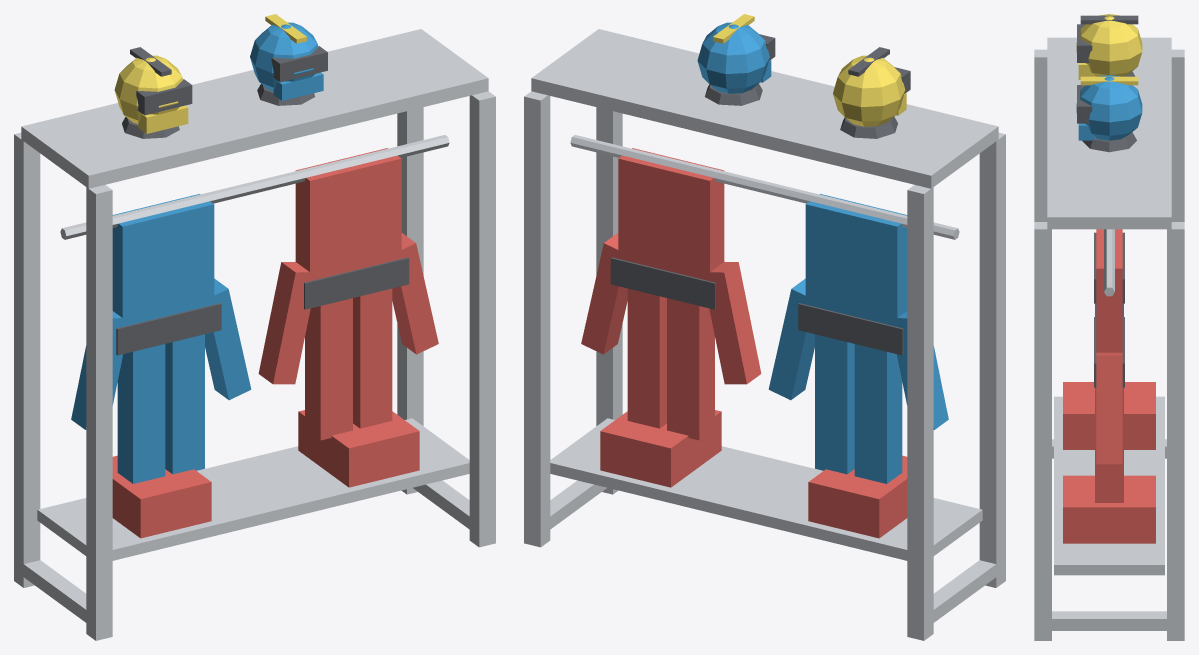
The model's file is go-kart-track-and-pit-lane-helmet-and-race-suit-rack-dca854a0__34358.glb.
3 views of the same model, side by side, from view 1: azimuth 30°, elevation 25°; view 2: azimuth 150°, elevation 25°; view 3: azimuth 270°, elevation 25° (orthographic). The views are drawn at different scales.
Parts seen in each view (by area): view 1: helmet-and-race-suit-rack-steel, helmet-and-race-suit-rack-red, helmet-and-race-suit-rack-azure, helmet-and-race-suit-rack-charcoal, helmet-and-race-suit-rack-canary; view 2: helmet-and-race-suit-rack-steel, helmet-and-race-suit-rack-red, helmet-and-race-suit-rack-azure, helmet-and-race-suit-rack-charcoal, helmet-and-race-suit-rack-canary; view 3: helmet-and-race-suit-rack-steel, helmet-and-race-suit-rack-red, helmet-and-race-suit-rack-canary, helmet-and-race-suit-rack-azure, helmet-and-race-suit-rack-charcoal.
Boxes of the visible parts, bbox=[...] form: helmet-and-race-suit-rack-steel: bbox=[14, 29, 495, 640]; helmet-and-race-suit-rack-red: bbox=[112, 148, 438, 538]; helmet-and-race-suit-rack-azure: bbox=[71, 22, 323, 483]; helmet-and-race-suit-rack-charcoal: bbox=[116, 46, 409, 355]; helmet-and-race-suit-rack-canary: bbox=[114, 14, 306, 133]; helmet-and-race-suit-rack-steel: bbox=[524, 29, 1005, 640]; helmet-and-race-suit-rack-red: bbox=[581, 148, 907, 538]; helmet-and-race-suit-rack-azure: bbox=[697, 22, 948, 483]; helmet-and-race-suit-rack-charcoal: bbox=[610, 34, 910, 355]; helmet-and-race-suit-rack-canary: bbox=[713, 14, 906, 126]; helmet-and-race-suit-rack-steel: bbox=[1034, 37, 1184, 640]; helmet-and-race-suit-rack-red: bbox=[1063, 229, 1155, 543]; helmet-and-race-suit-rack-canary: bbox=[1076, 14, 1142, 85]; helmet-and-race-suit-rack-azure: bbox=[1076, 75, 1142, 316]; helmet-and-race-suit-rack-charcoal: bbox=[1077, 15, 1138, 387].
Size of the model in its own units: 1.92 by 2.43 by 0.6801.
